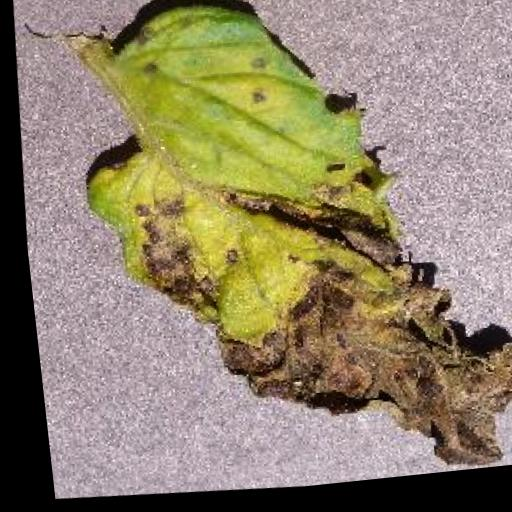Septoria: (52, 0, 512, 506)
